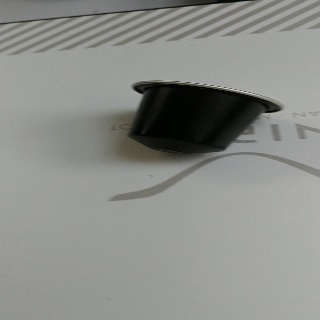capsule_10: (125, 79, 286, 155)
